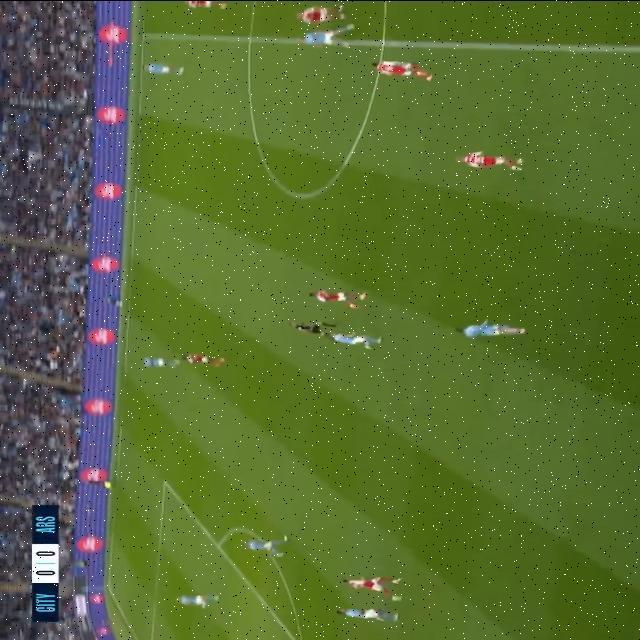player: (445, 312, 541, 354), (423, 143, 537, 177), (163, 580, 247, 621), (292, 22, 387, 52), (370, 53, 454, 85), (305, 279, 383, 311), (138, 49, 208, 81), (227, 534, 313, 557), (174, 348, 244, 376), (321, 332, 389, 360), (134, 345, 192, 377), (330, 573, 404, 595), (325, 598, 399, 620), (294, 8, 369, 24), (167, 0, 224, 20)
referee: (281, 312, 333, 348)
